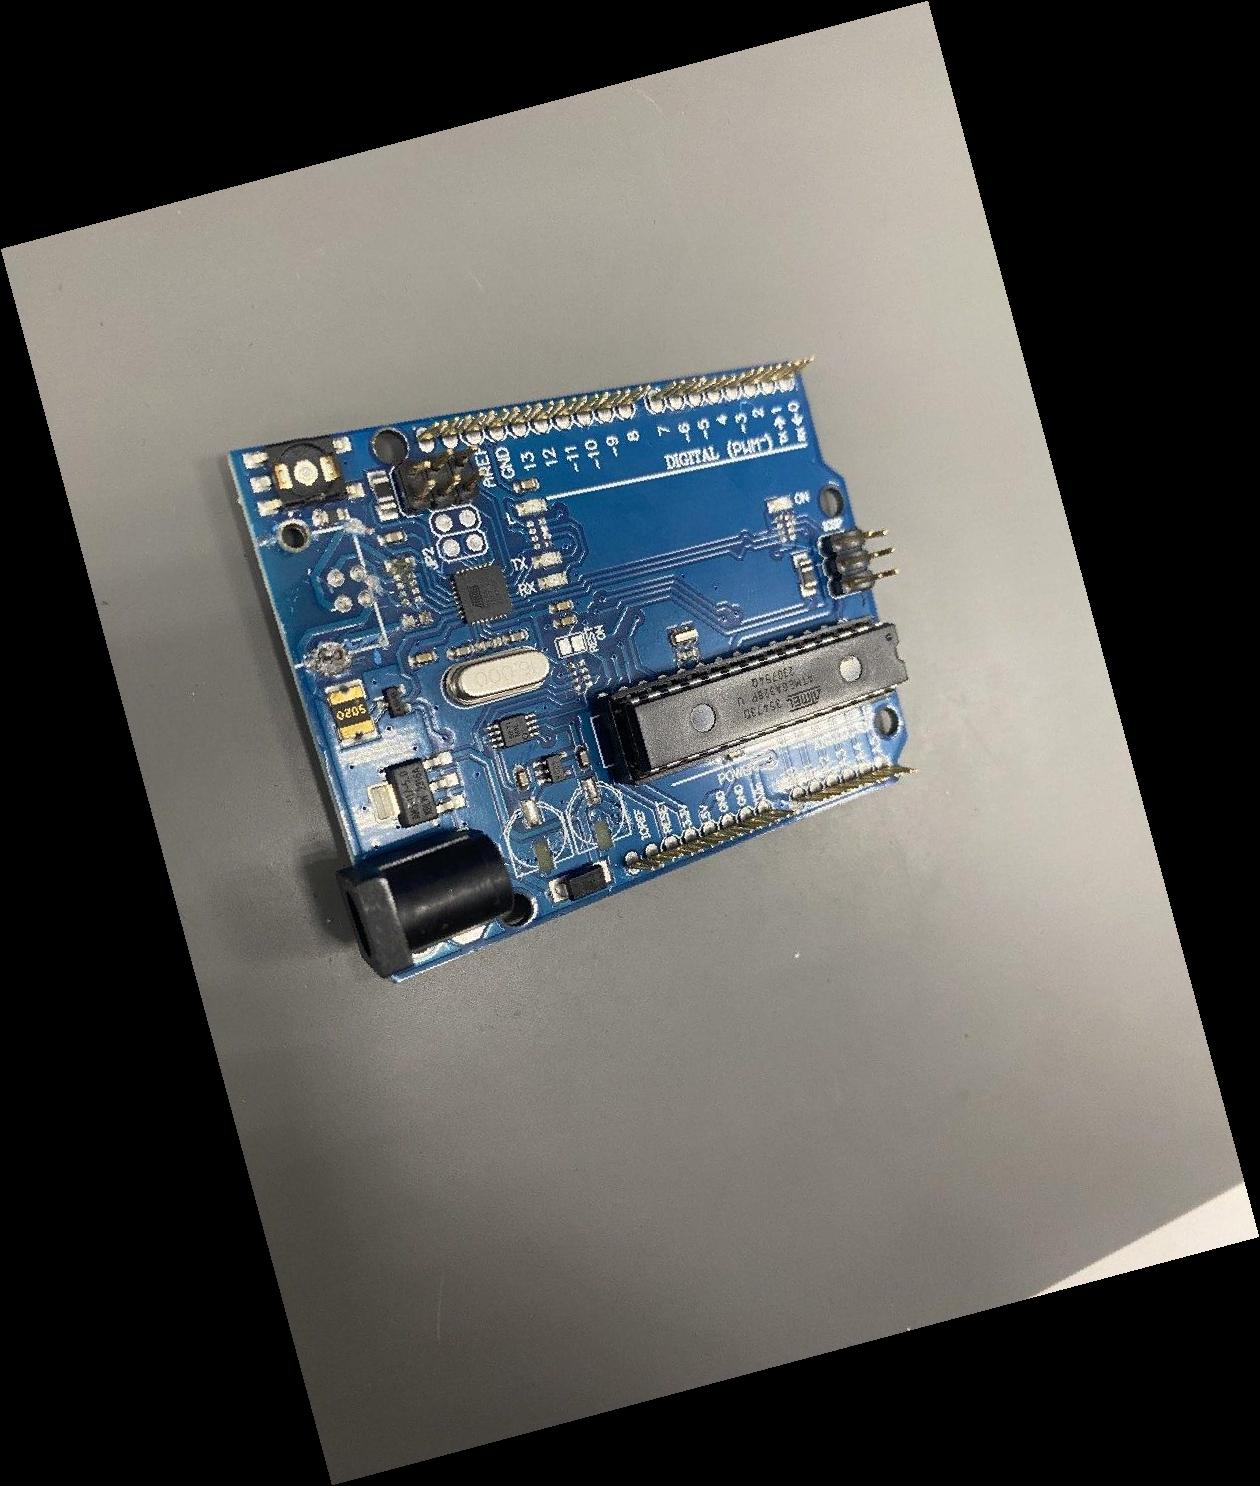ATmega328 chip: (602, 614, 907, 786)
Arduino board: (225, 356, 915, 981)
